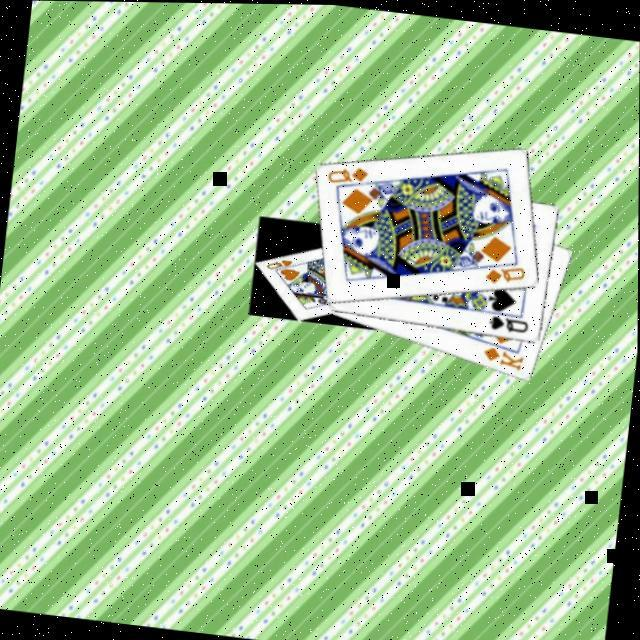KD: (481, 340, 529, 372)
QD: (484, 257, 530, 289), (326, 158, 374, 188)
QS: (488, 310, 534, 334)
